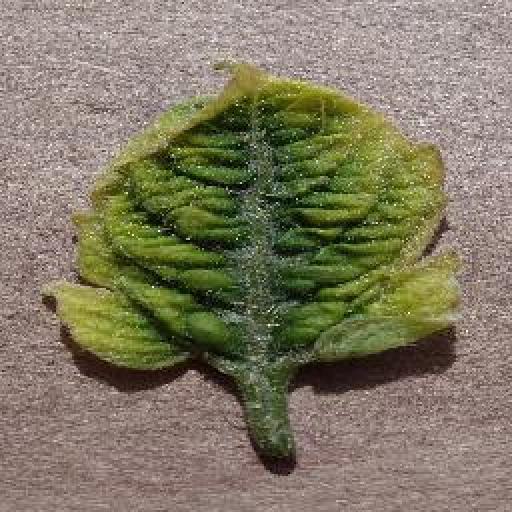Yellow Leaf Curl Virus: (43, 60, 460, 371)
